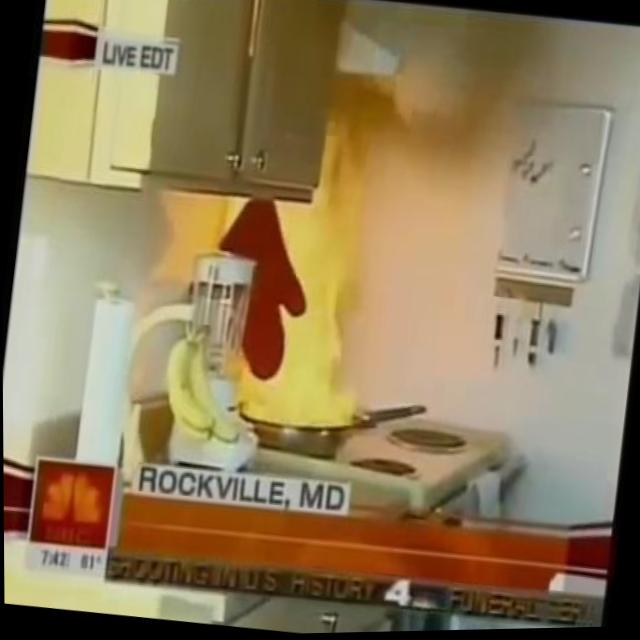fire: (197, 106, 399, 432)
